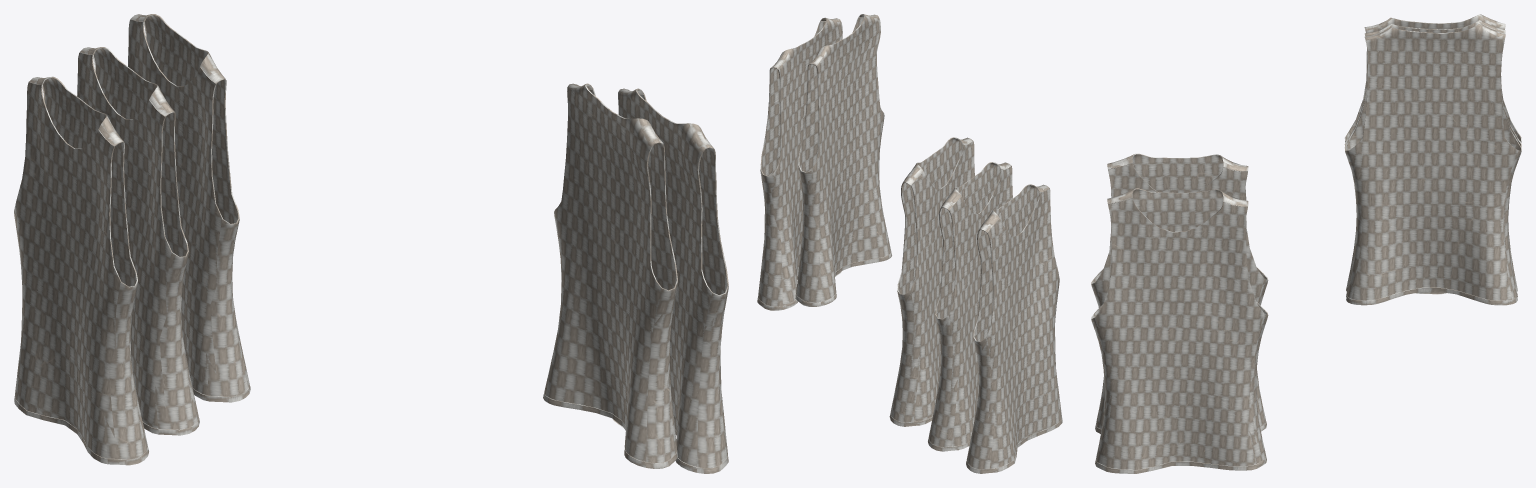
Rendered from yifu0903.fbx.
3 renders of one model, left to right at view 1: azimuth 30°, elevation 25°; view 2: azimuth 150°, elevation 25°; view 3: azimuth 270°, elevation 25°, orthographic. The views are drawn at different scales.
Parts seen in each view (by area): view 1: yifu0903; view 2: yifu0903; view 3: yifu0903.
Boxes of the visible parts, left/top/right/bottom form: yifu0903: left=14, top=14, right=728, bottom=473; yifu0903: left=757, top=14, right=1062, bottom=473; yifu0903: left=1091, top=14, right=1521, bottom=473.
Bounding box in the file's own units: 114 × 83.21 × 106.
